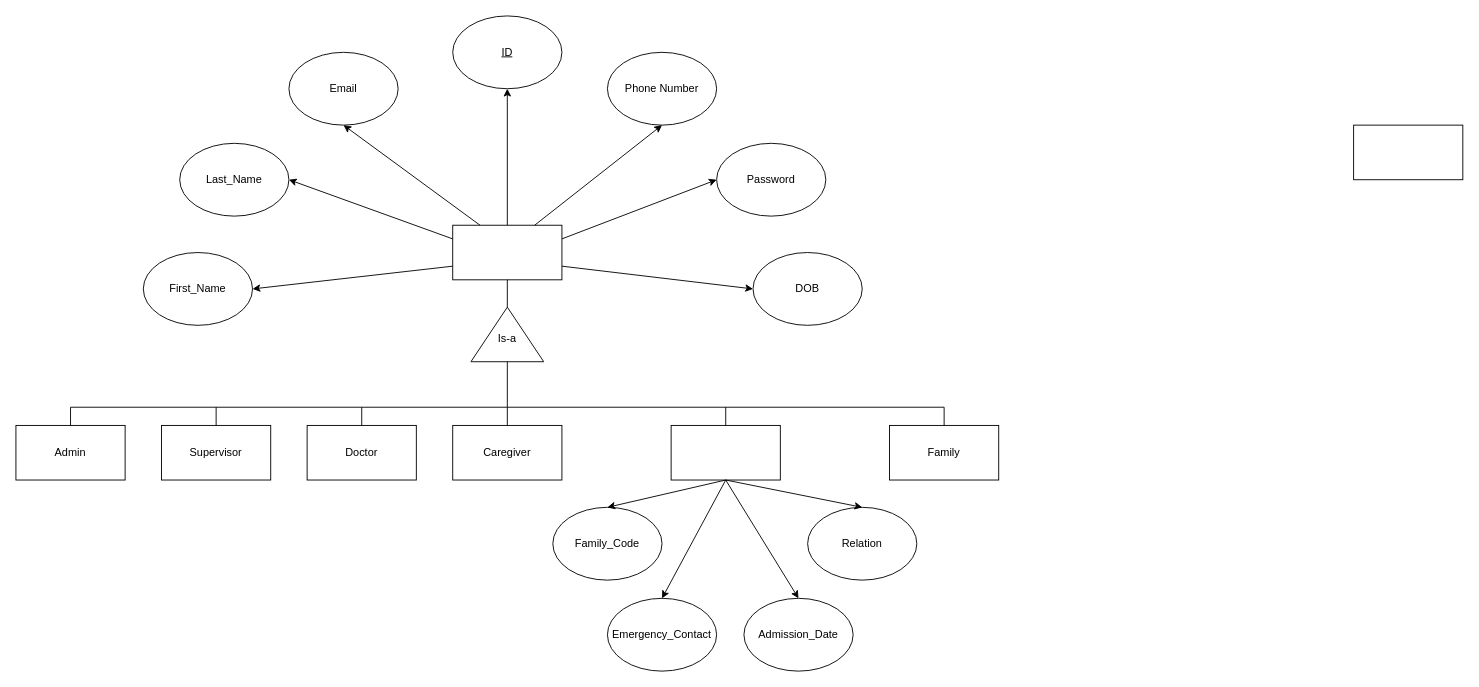
Image size: 1479x687. Some labels were removed from this diagram. Each missing label, with the box of its shape:
Patient: (670, 425, 780, 480)
User: (452, 224, 562, 280)
